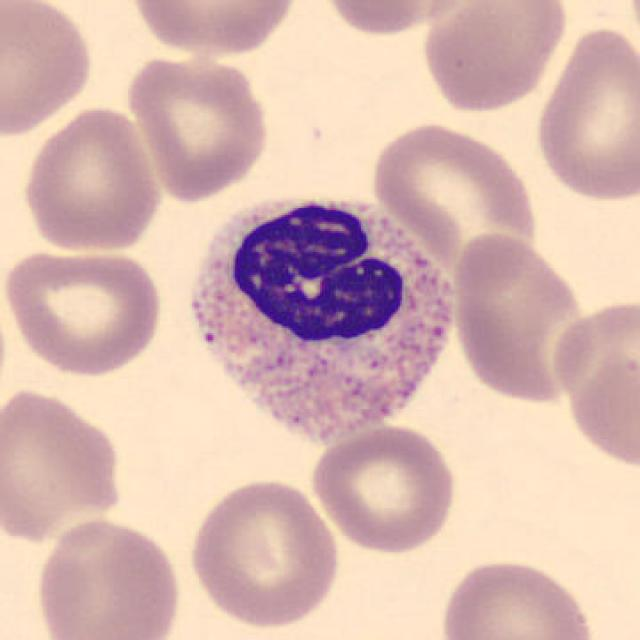Neutrophil: (170, 182, 468, 464)
RBC: (367, 118, 540, 279), (183, 473, 345, 631), (448, 228, 590, 408), (122, 49, 274, 203), (0, 245, 167, 379), (18, 104, 164, 256), (0, 382, 128, 544), (308, 422, 460, 558), (530, 21, 638, 205), (32, 515, 185, 640), (418, 0, 570, 115), (547, 289, 640, 474), (435, 553, 600, 640), (0, 0, 98, 141), (124, 0, 300, 58), (313, 0, 485, 39)
